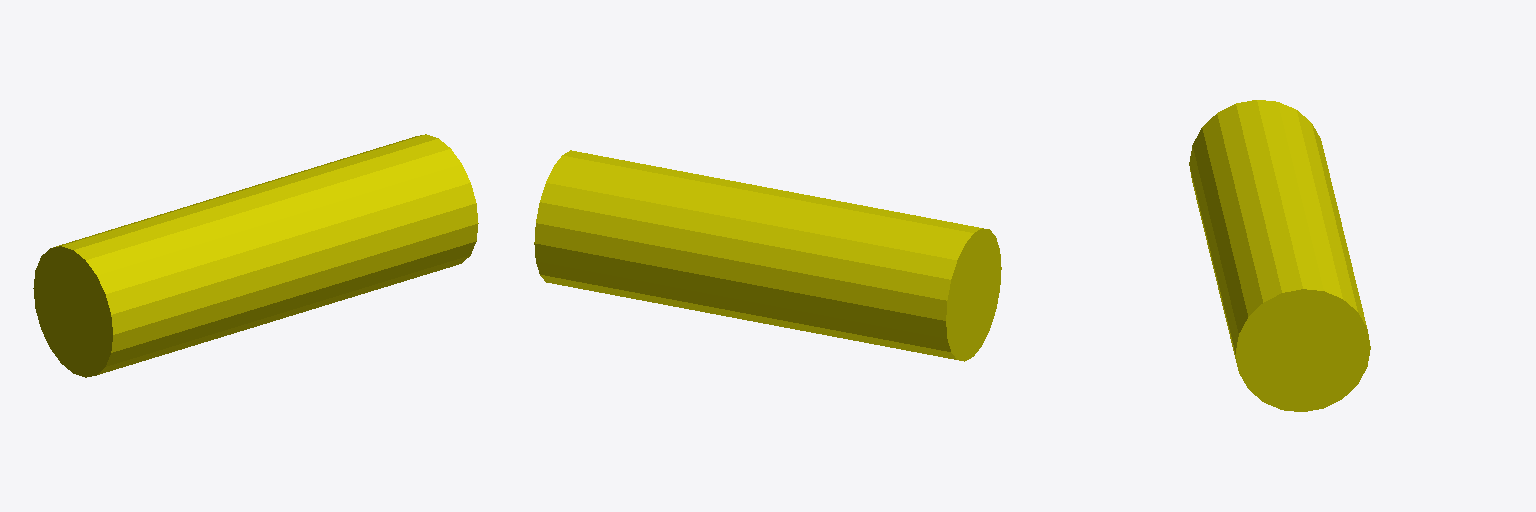
Rendered from L_arm.obj.
3 renders of one model, left to right at view 1: azimuth 30°, elevation 25°; view 2: azimuth 150°, elevation 25°; view 3: azimuth 270°, elevation 25°, orthographic.
Visible parts, largest first — view 1: pCylinder1; view 2: pCylinder1; view 3: pCylinder1.
Boxes of the visible parts, x1,y1,x2,y2 form: pCylinder1: [33, 134, 478, 377]; pCylinder1: [534, 150, 1001, 361]; pCylinder1: [1189, 100, 1370, 411].
Size of the model in its own units: 1.02 by 0.3001 by 0.4008.